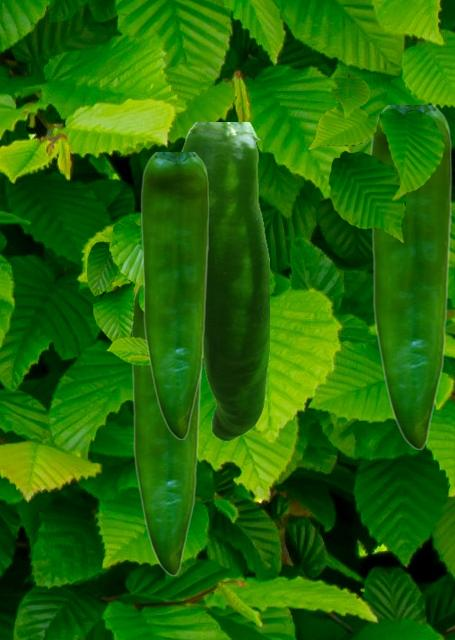green_chili: (179, 122, 268, 440), (369, 105, 451, 448), (130, 286, 201, 574), (140, 152, 208, 438)
